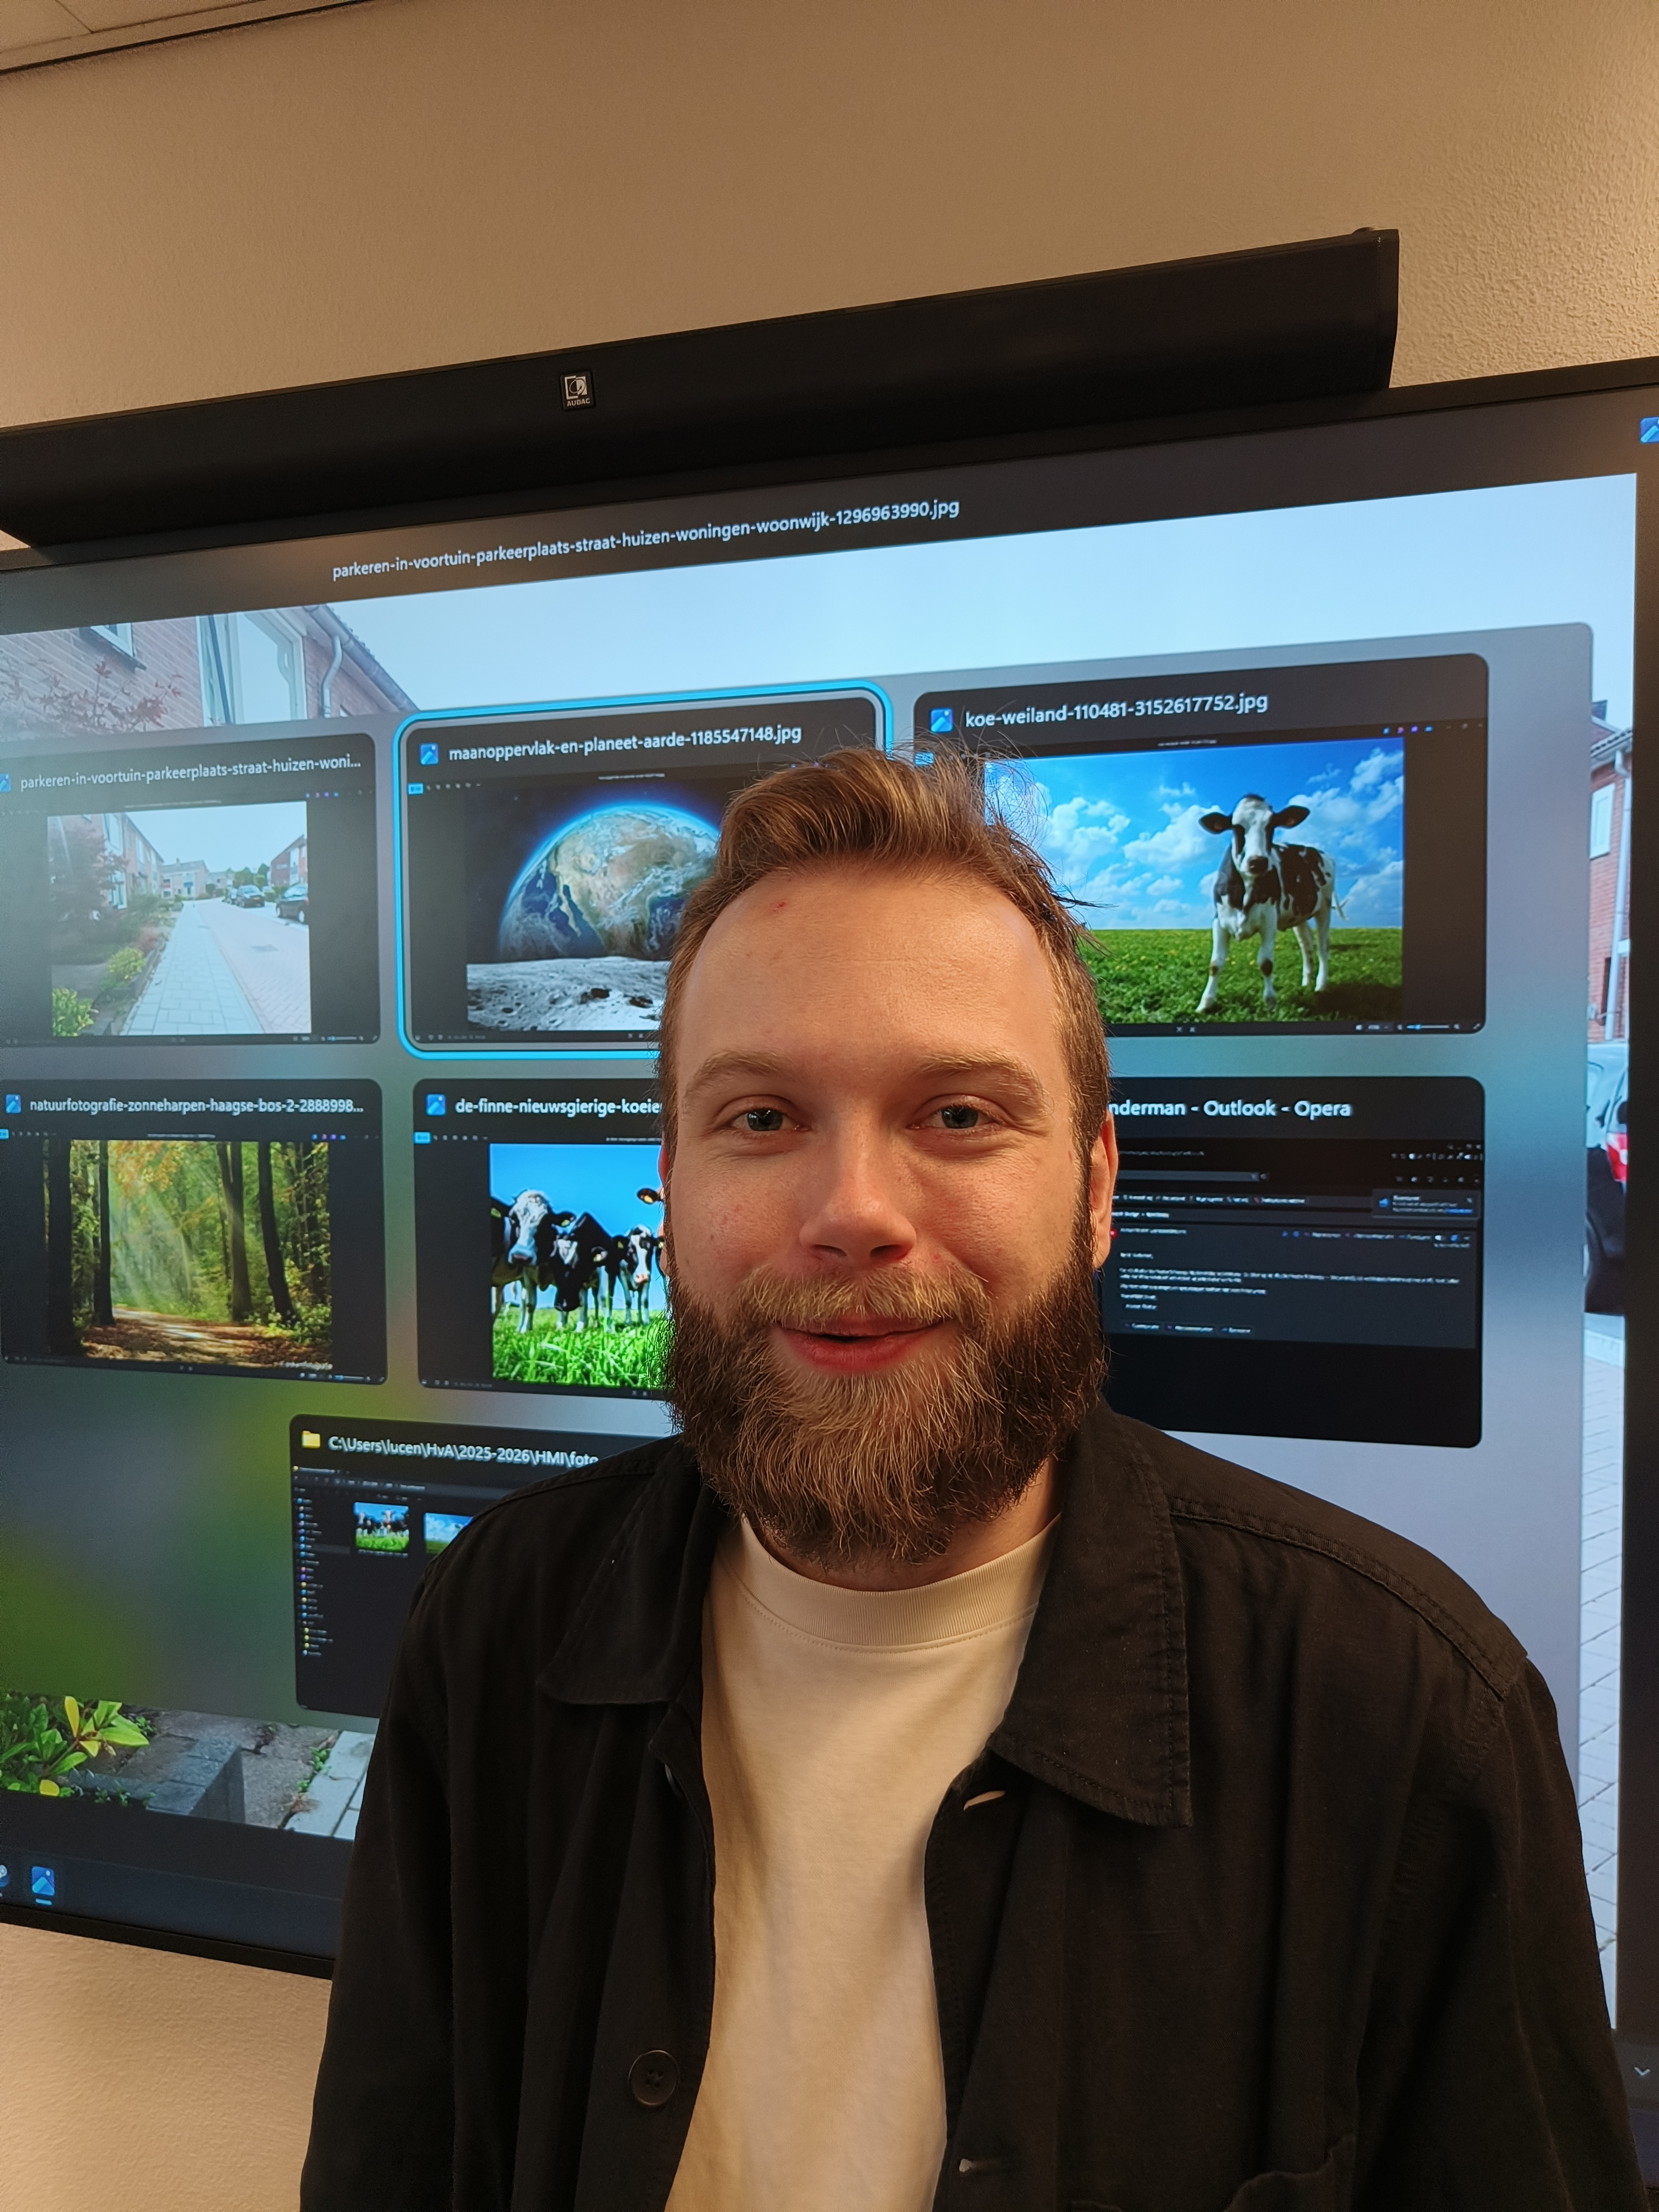face: (645, 765, 1096, 1457)
